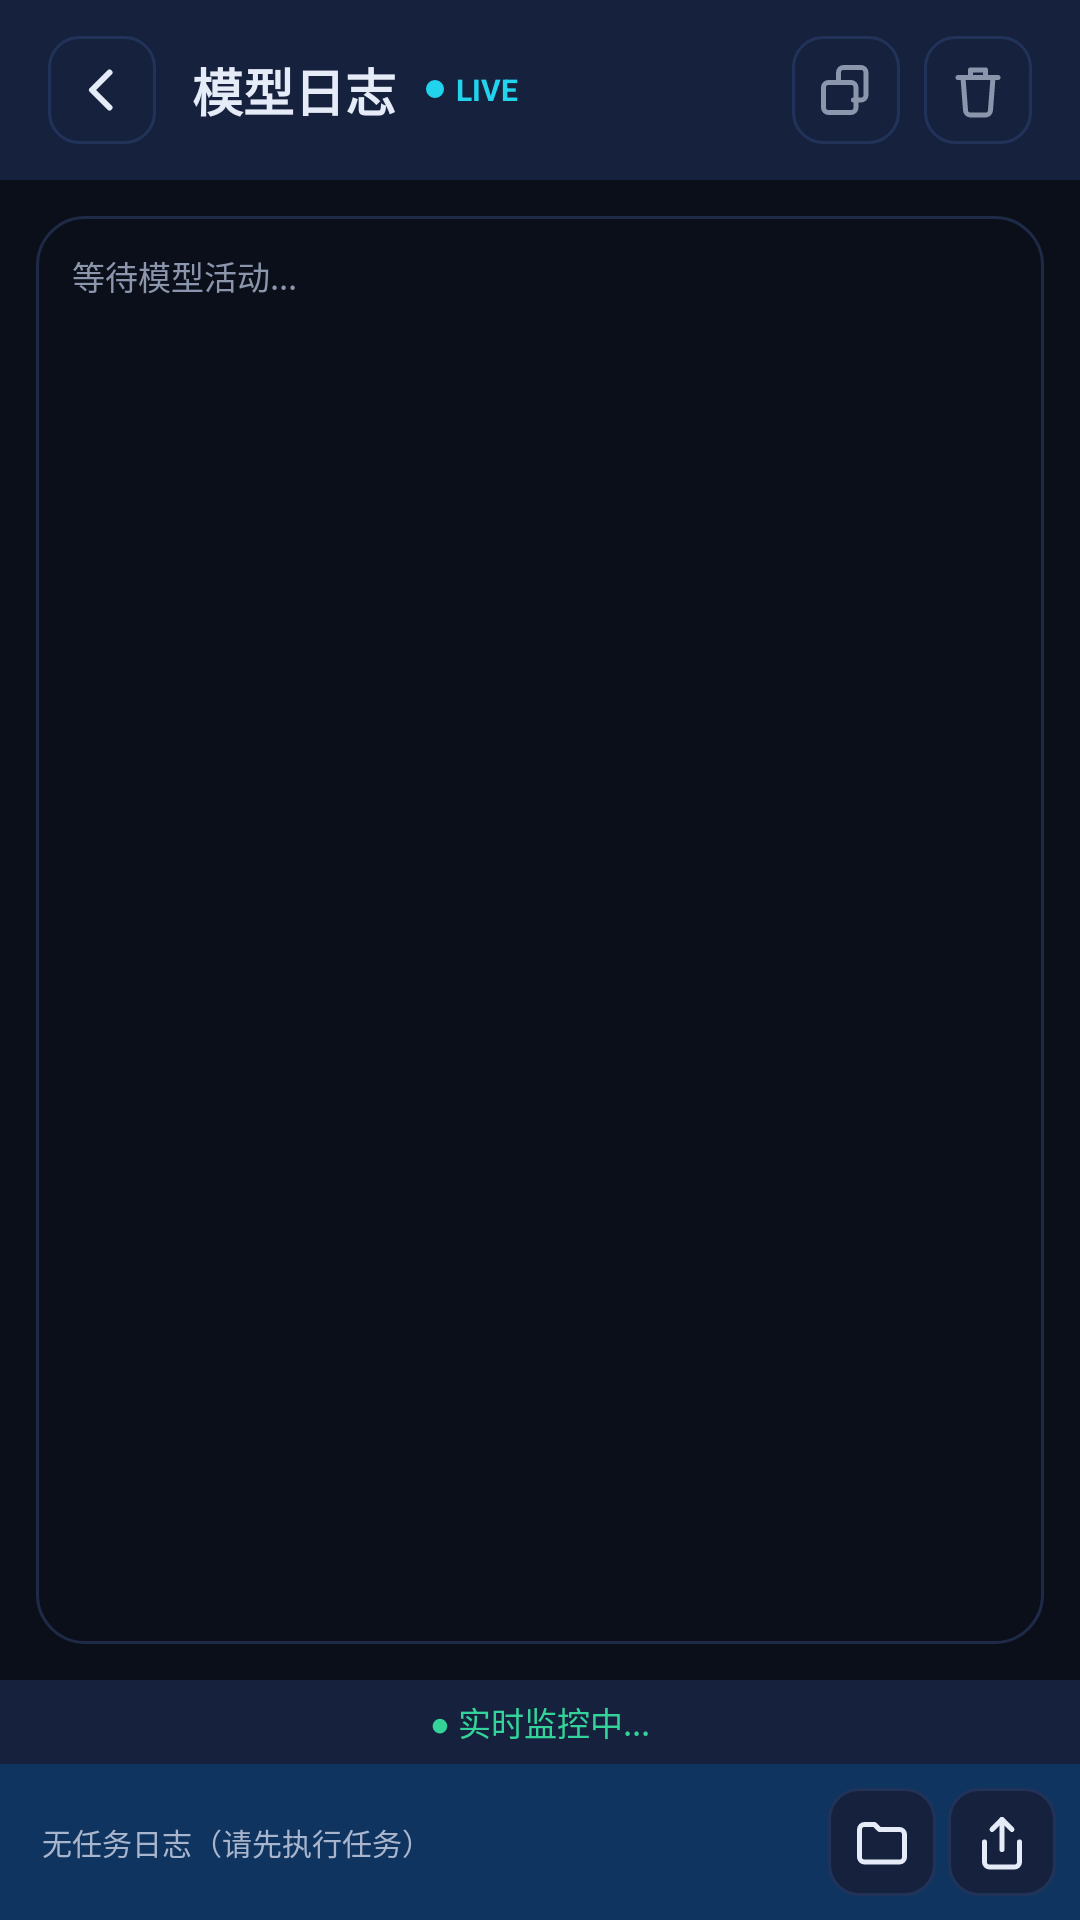

Icons on this 1080×1920 Android screen, each with its box as (x1, y1, x2, y2):
分享日志: (951, 1791, 1053, 1893)
复制日志: (792, 36, 900, 144)
打开目录: (831, 1791, 933, 1893)
清空日志: (924, 36, 1032, 144)
返回: (48, 36, 156, 144)
